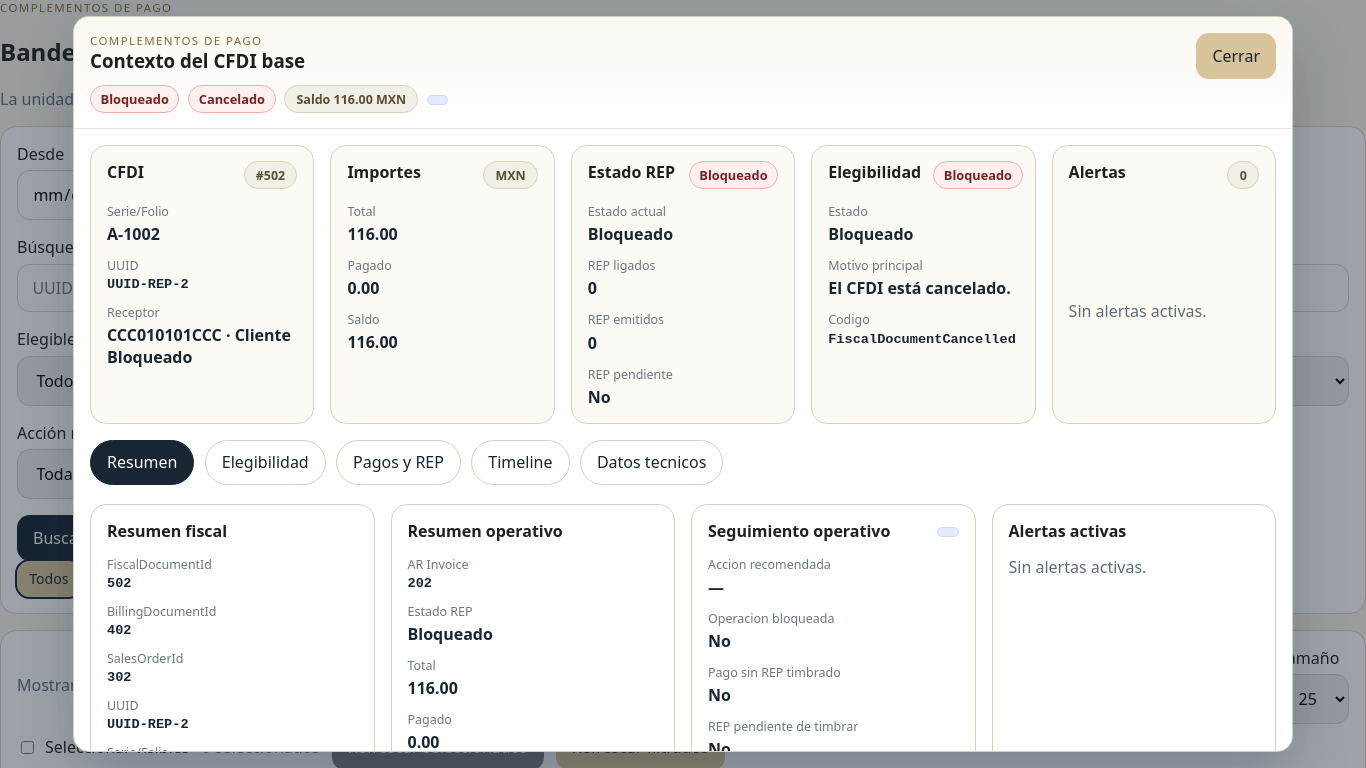
Scenario: PaymentComplementBaseDocumentsPageComponent › renders empty history states in the detail modal
Step 1. Click the tab "Pagos y REP" → (399, 462), box [336, 440, 461, 485]
(page scrolled)
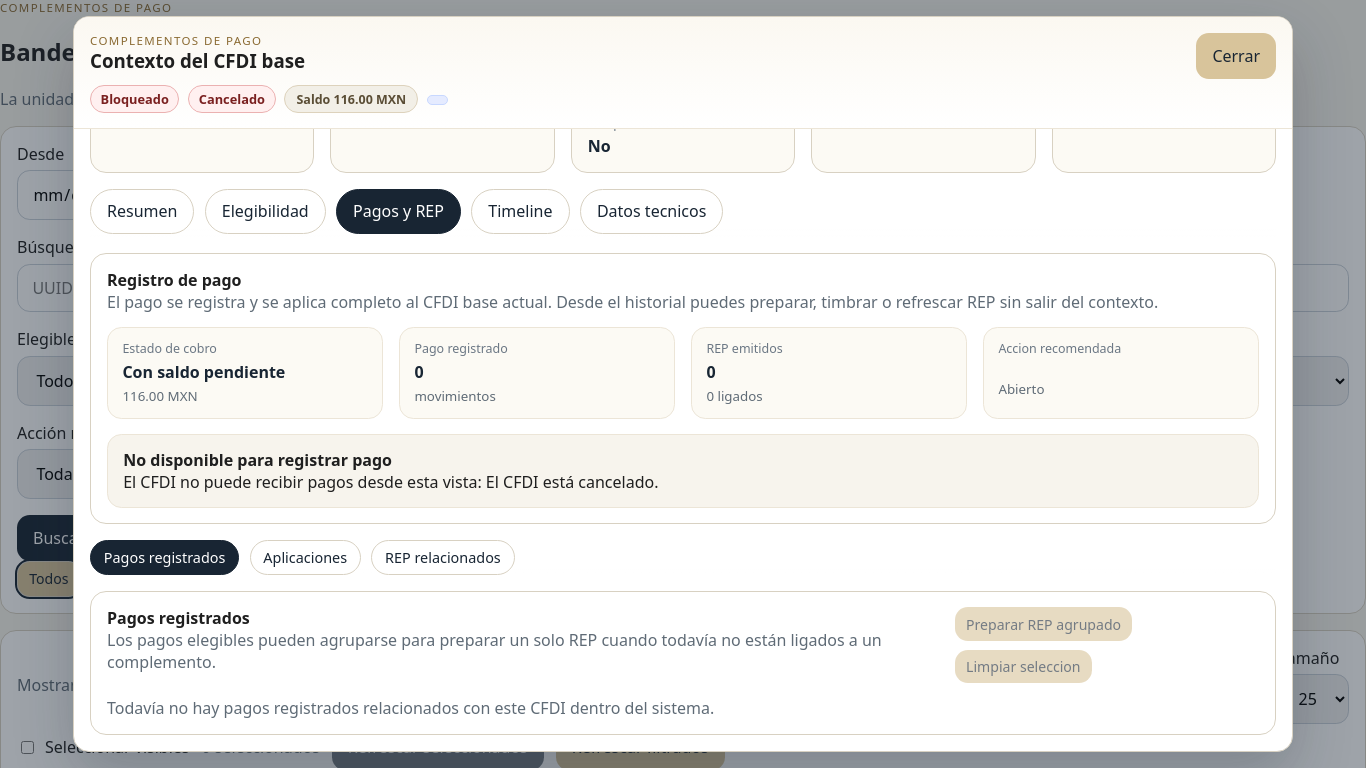
Check: the text "Todavía no hay pagos registrados relacionados" is shown, box [107, 696, 714, 718]
Step 2. Click the tab "Aplicaciones" → (305, 558), box [250, 540, 361, 575]
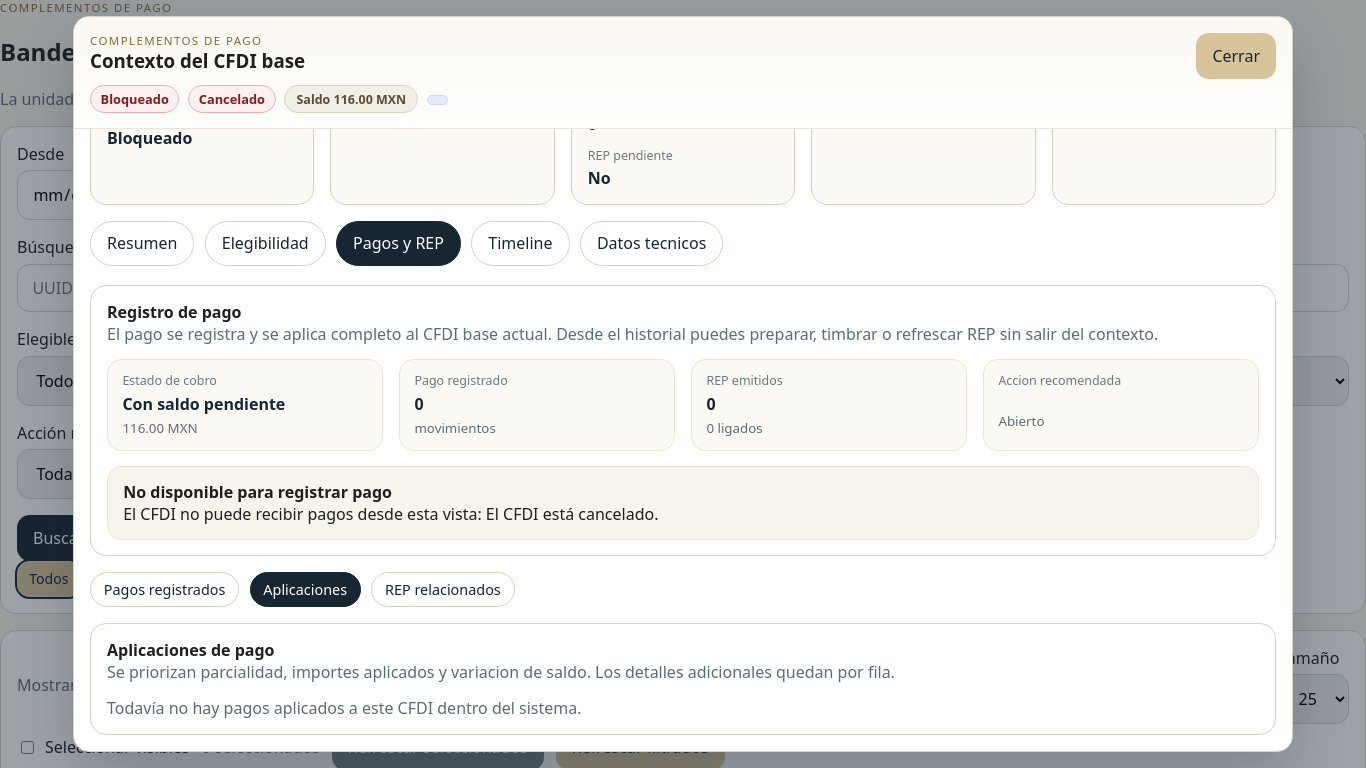
Check: the text "Todavía no hay pagos aplicados" is shown, box [107, 697, 582, 719]
Step 3. Click the tab "REP relacionados" → (443, 590), box [371, 572, 514, 607]
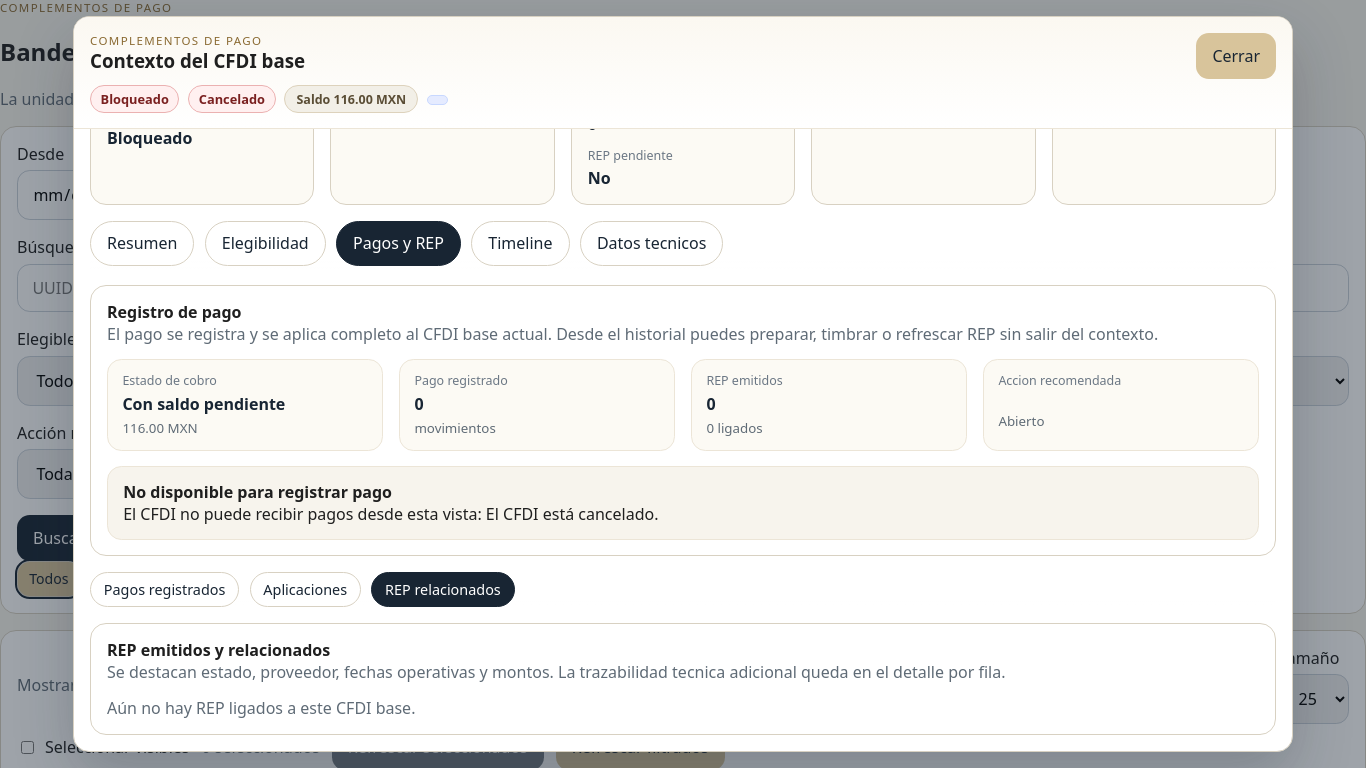
Check: the text "Aún no hay REP ligados" is shown, box [107, 697, 415, 719]
